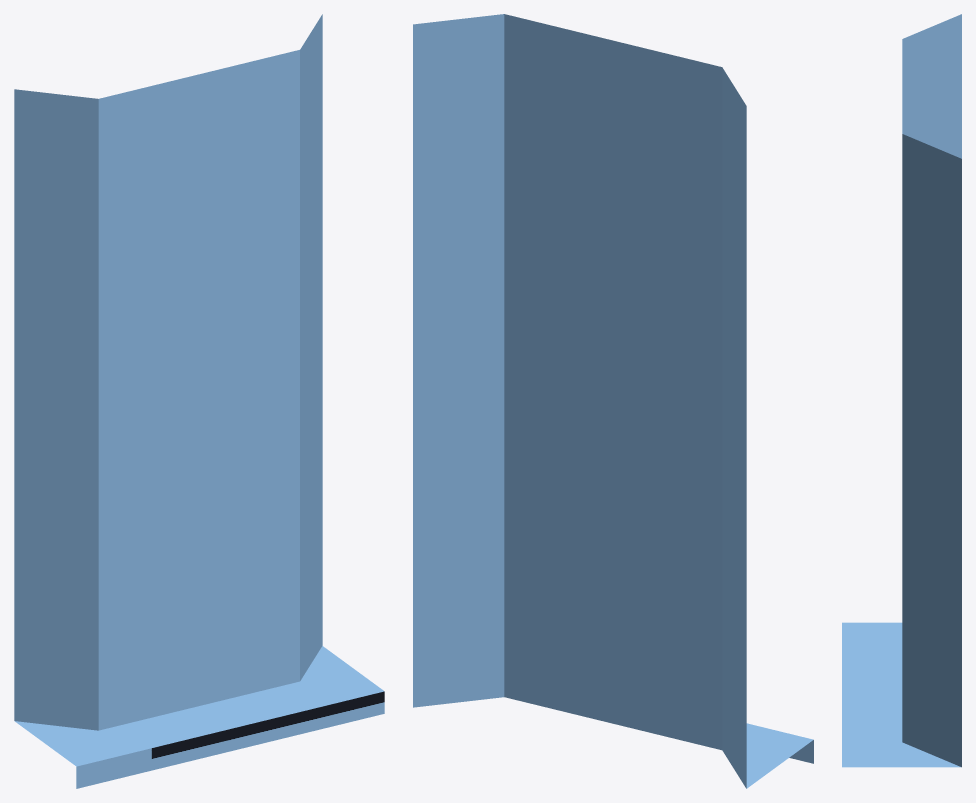
The model's file is Wall.FBX.
3 views of the same model, side by side, from view 1: azimuth 30°, elevation 25°; view 2: azimuth 150°, elevation 25°; view 3: azimuth 270°, elevation 25° (orthographic). The views are drawn at different scales.
Parts seen in each view (by area): view 1: WallBlock; view 2: WallBlock; view 3: WallBlock.
Boxes of the visible parts, x1,y1,x2,y2 form: WallBlock: (14,14,384,788); WallBlock: (413,14,813,788); WallBlock: (842,14,961,767).
Size of the model in its own units: 1.5 by 0.5249 by 3.04.
1 material, 1 textured.
